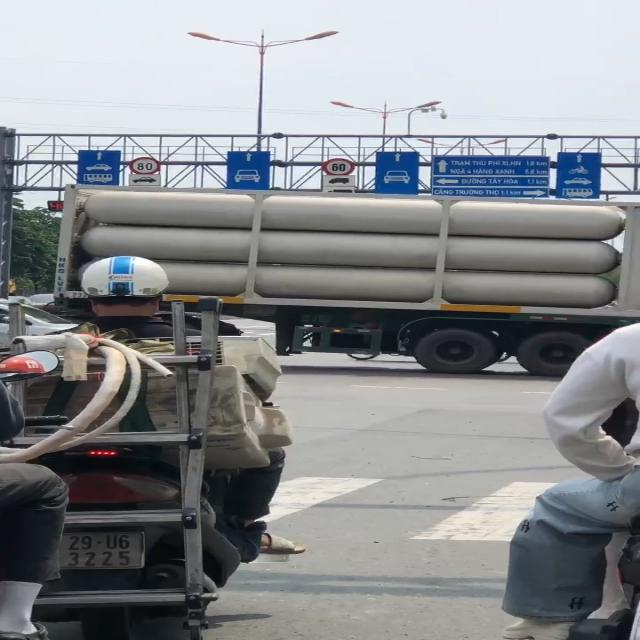Bien bao toc do toi da cho phep: (129, 154, 166, 177), (321, 157, 356, 178)
